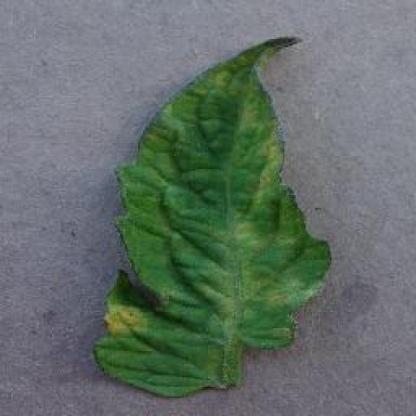Tomato_Leaf_Mold: (94, 35, 328, 393)
